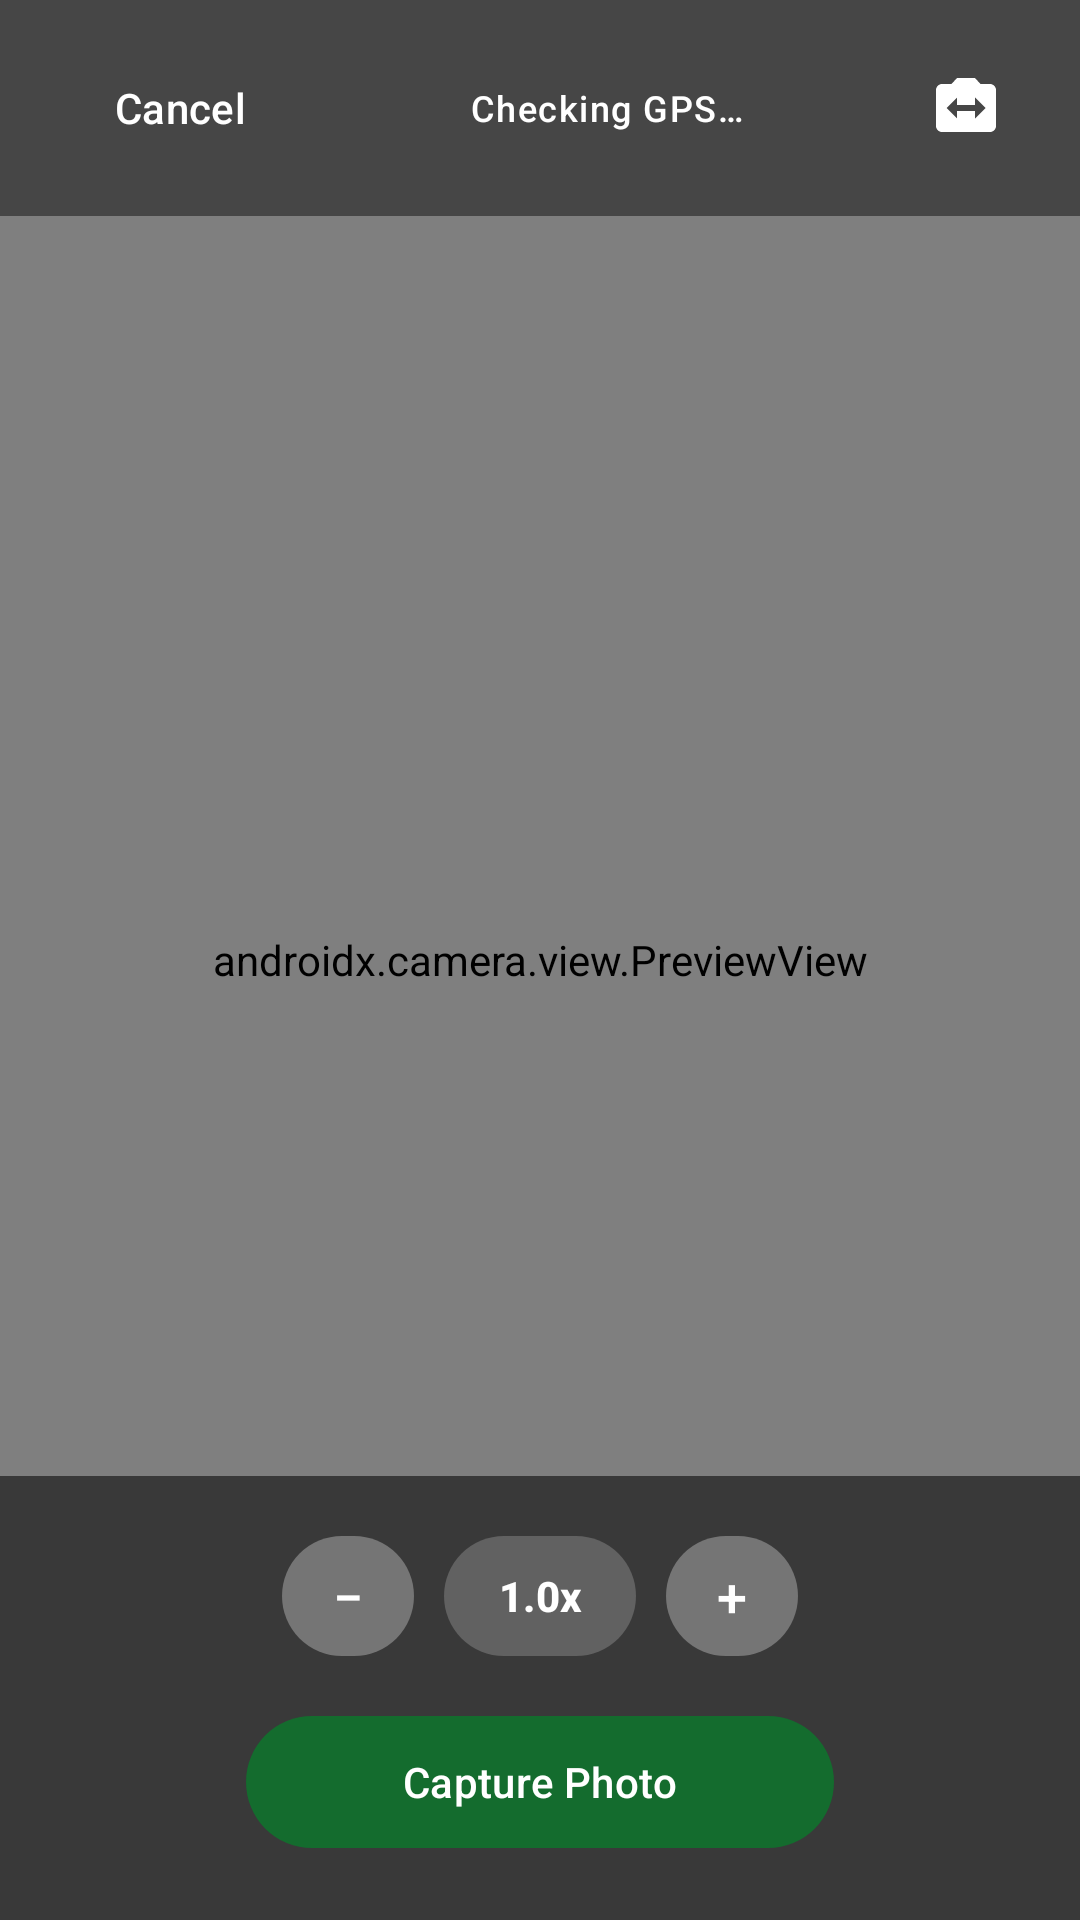

Screen size 1080px×1920px. Icon name, then its center in pixels as (x,y):
Switch camera: (966,105)
